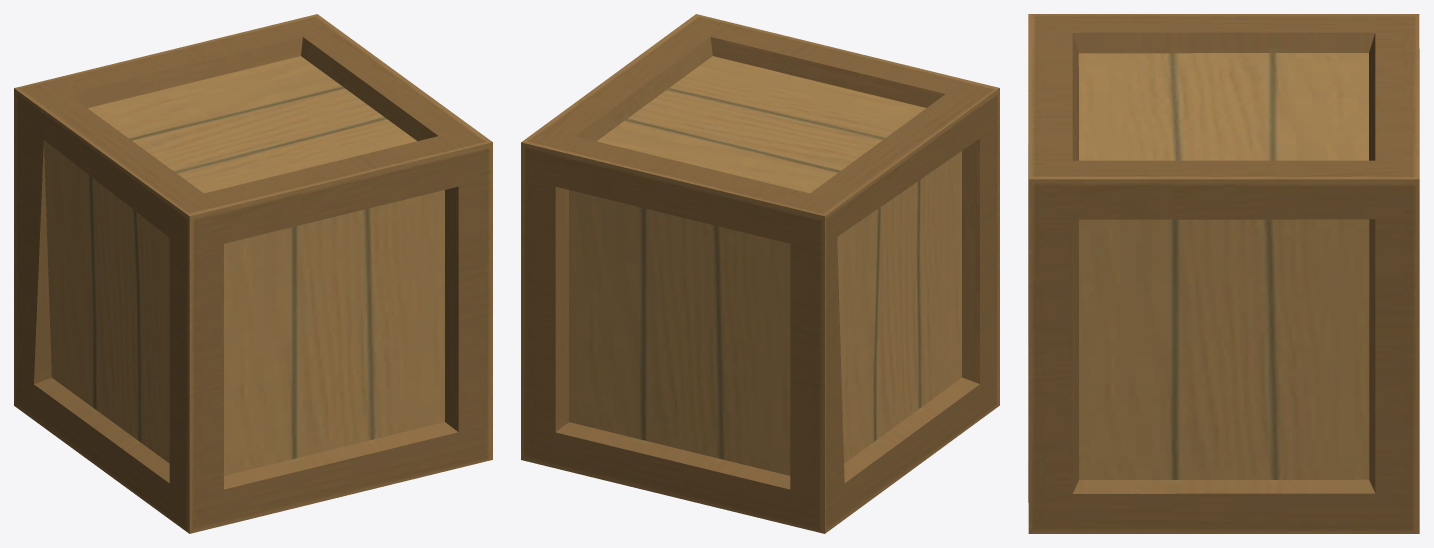
3 views of the same model, side by side, from view 1: azimuth 30°, elevation 25°; view 2: azimuth 150°, elevation 25°; view 3: azimuth 270°, elevation 25° (orthographic). The views are drawn at different scales.
Parts seen in each view (by area): view 1: xiangzi; view 2: xiangzi; view 3: xiangzi.
Boxes of the visible parts, x1,y1,x2,y2 form: xiangzi: (14,14,492,533); xiangzi: (521,14,999,533); xiangzi: (1028,14,1419,533).
Size of the model in its own units: 0.5004 by 0.5 by 0.5004.
1 material, 1 textured.
